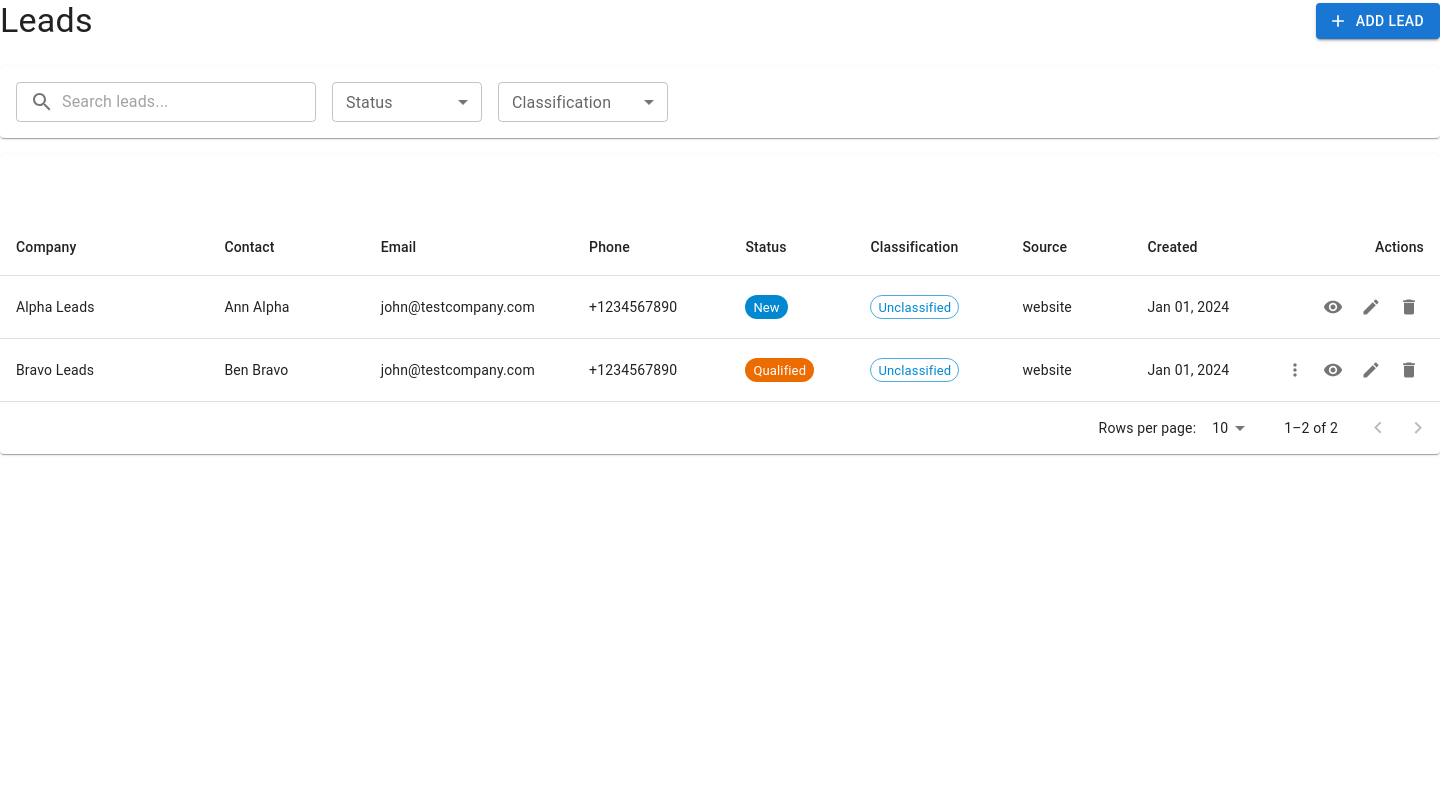
it: LeadList conversion settings › stops an open dialog from converting once the refreshed settings no longer allow the status
The width and height of the screenshot is (1440, 810).
Click the button named "More actions for Bravo Leads": (1295, 370) x1=1280 y1=355 x2=1310 y2=385
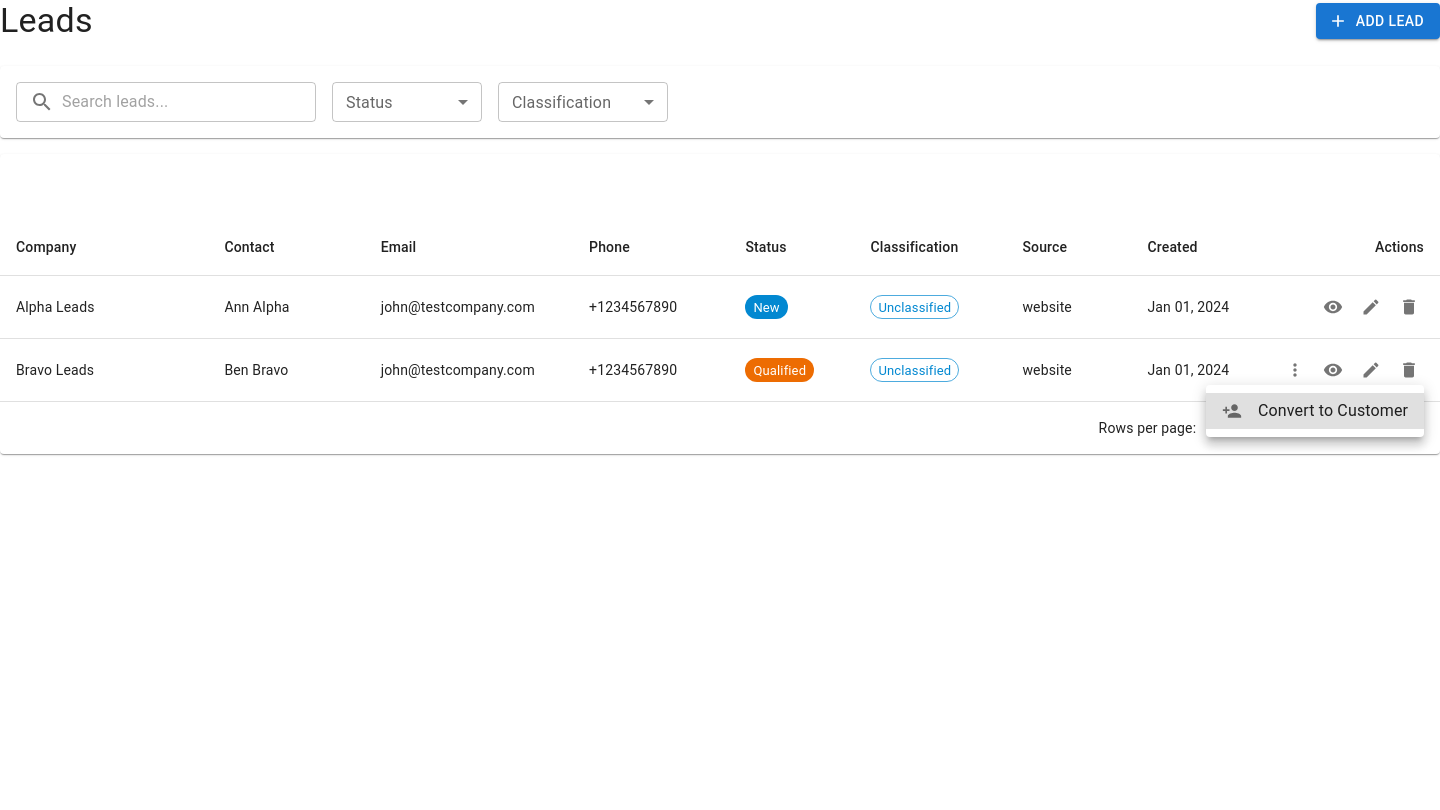
Click the menu item "Convert to Customer": (1315, 411) x1=1206 y1=393 x2=1424 y2=429
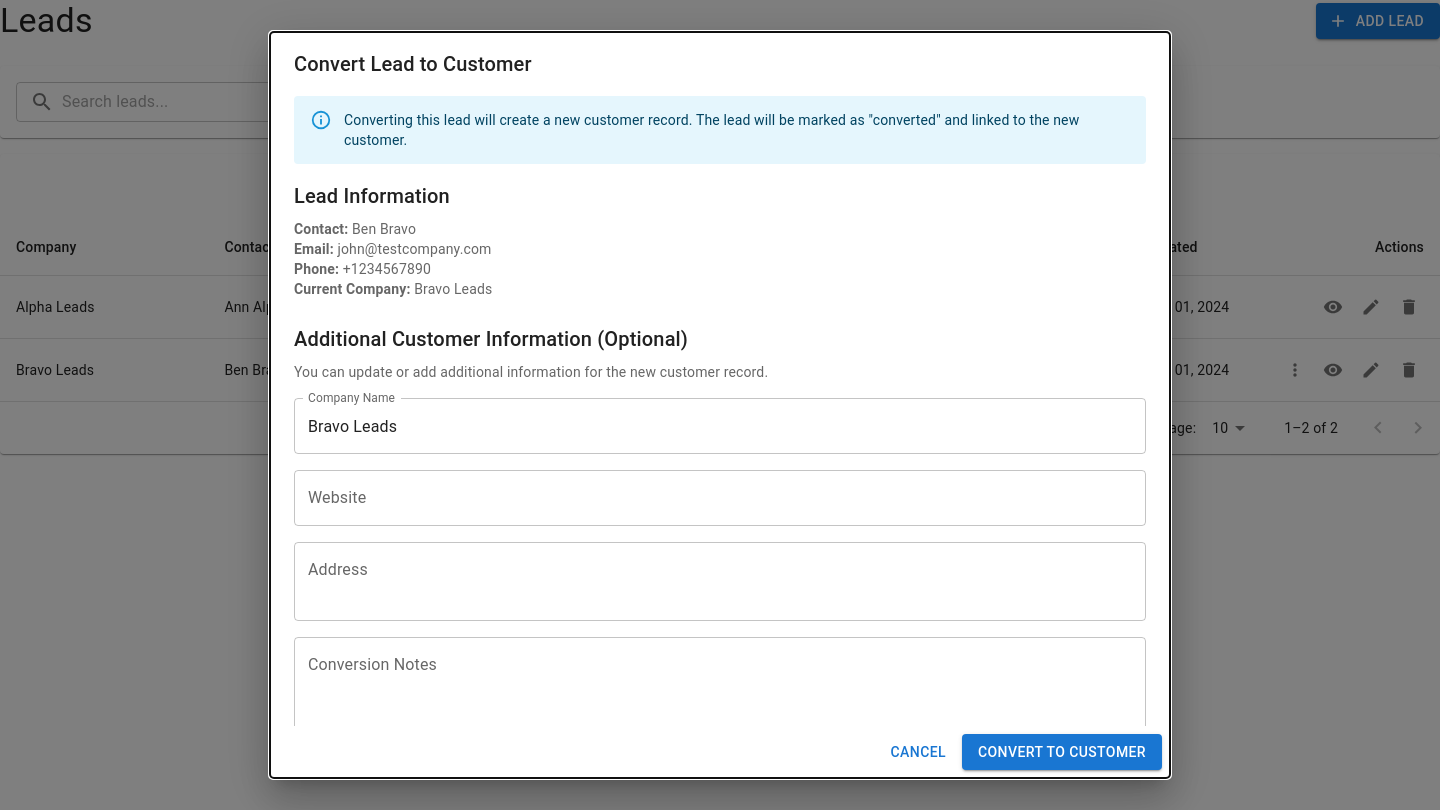
Click the button "Convert to Customer": (1062, 752) x1=962 y1=734 x2=1162 y2=770
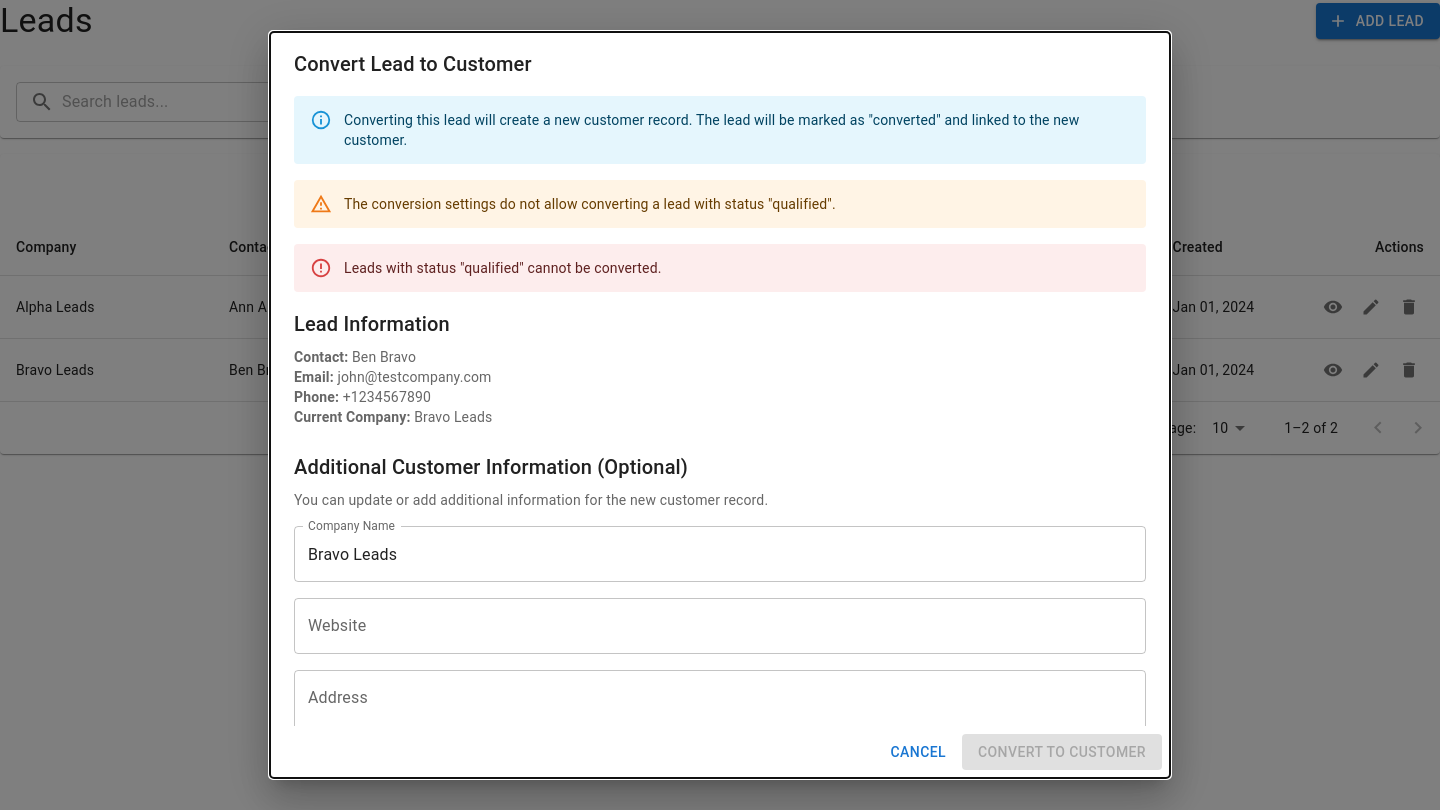
Result: the message "Leads with status \"qualified\" cannot be converted." is shown at x1=294 y1=244 x2=1146 y2=292
Result: the button "Convert to Customer" is disabled at x1=962 y1=734 x2=1162 y2=770
Result: the message with test id "convert-lead-ineligible" reads "The conversion settings do not allow converting a lead with status \"qualified\"." at x1=344 y1=196 x2=836 y2=212
